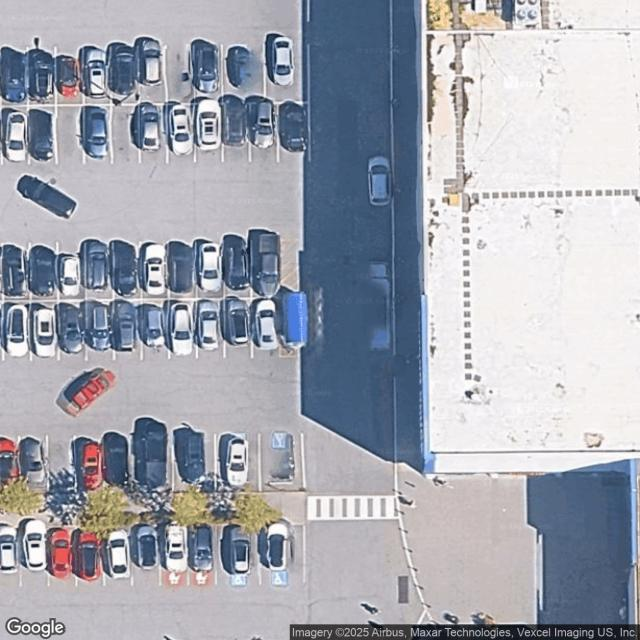car: (15, 176, 84, 223), (56, 369, 116, 417), (131, 417, 169, 488), (218, 430, 256, 490), (251, 229, 282, 298), (172, 424, 206, 485), (192, 99, 226, 158), (112, 233, 141, 302), (2, 299, 34, 359), (81, 236, 111, 298), (112, 301, 146, 355), (2, 48, 33, 107), (164, 100, 196, 156), (80, 104, 112, 160), (222, 234, 252, 293), (140, 239, 169, 300), (168, 237, 197, 298), (134, 102, 167, 155), (32, 300, 62, 358), (84, 45, 114, 103), (29, 48, 60, 104), (190, 39, 222, 93), (27, 242, 56, 300), (220, 524, 251, 578), (71, 530, 103, 581), (71, 435, 101, 489), (247, 99, 277, 152), (56, 49, 86, 102), (18, 518, 48, 571), (2, 109, 30, 165), (102, 432, 130, 488), (141, 304, 169, 359), (170, 298, 195, 359), (87, 300, 115, 354), (268, 430, 296, 484), (280, 102, 310, 152), (158, 522, 188, 572), (31, 110, 58, 164), (59, 300, 85, 356), (45, 527, 73, 579), (3, 244, 28, 302), (18, 436, 47, 486), (110, 43, 138, 94), (128, 523, 159, 568), (200, 236, 224, 294), (187, 524, 215, 573), (138, 35, 164, 87), (226, 300, 251, 353), (222, 99, 246, 154), (199, 299, 222, 356), (271, 36, 296, 86), (266, 522, 292, 570), (59, 243, 82, 297), (228, 44, 254, 90), (258, 301, 279, 352), (108, 532, 129, 580), (0, 523, 18, 573), (0, 437, 20, 482)
lot_boundary: (0, 0, 309, 640)
